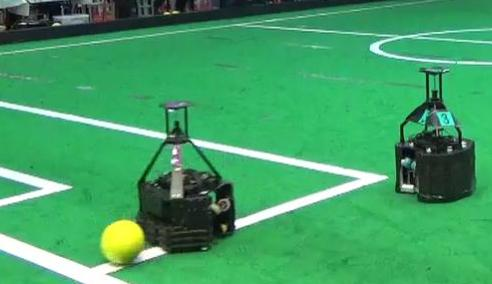robot: (133, 91, 241, 256), (390, 62, 482, 205)
